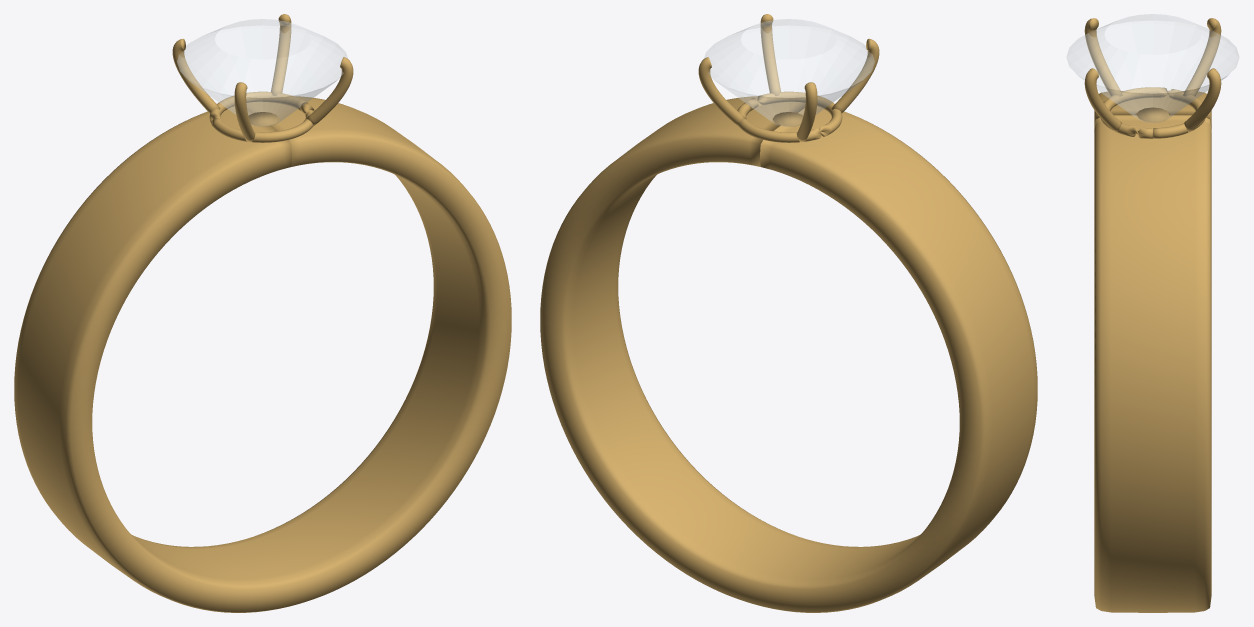
The model's file is bands-wide.glb.
3 renders of one model, left to right at view 1: azimuth 30°, elevation 25°; view 2: azimuth 150°, elevation 25°; view 3: azimuth 270°, elevation 25°, orthographic.
Parts seen in each view (by area): view 1: Band, Gem, Lower gallery, Prong.001, Prong, Prong.003, Prong.002; view 2: Band, Gem, Lower gallery, Prong.002, Prong.003, Prong, Prong.001; view 3: Band, Gem, Lower gallery, Prong.001, Prong.002, Prong, Prong.003, Head stem.
Part boxes in pixels (x1,y1,x2,y2): Band: (14,96,511,612); Gem: (177,19,347,126); Lower gallery: (209,91,314,142); Prong.001: (172,38,220,113); Prong: (271,14,291,95); Prong.003: (305,57,353,126); Prong.002: (234,82,255,142); Band: (540,96,1037,612); Gem: (704,19,874,126); Lower gallery: (737,91,842,142); Prong.002: (831,38,879,113); Prong.003: (760,14,780,95); Prong: (698,57,746,126); Prong.001: (796,82,817,142); Band: (1094,90,1211,612); Gem: (1066,14,1239,122); Lower gallery: (1100,87,1205,138); Prong.001: (1183,18,1221,96); Prong.002: (1084,18,1122,96); Prong: (1184,68,1221,132); Prong.003: (1084,68,1121,132); Head stem: (1137,107,1168,122).
Size of the model in its own units: 19.6 by 22.94 by 6.5.
